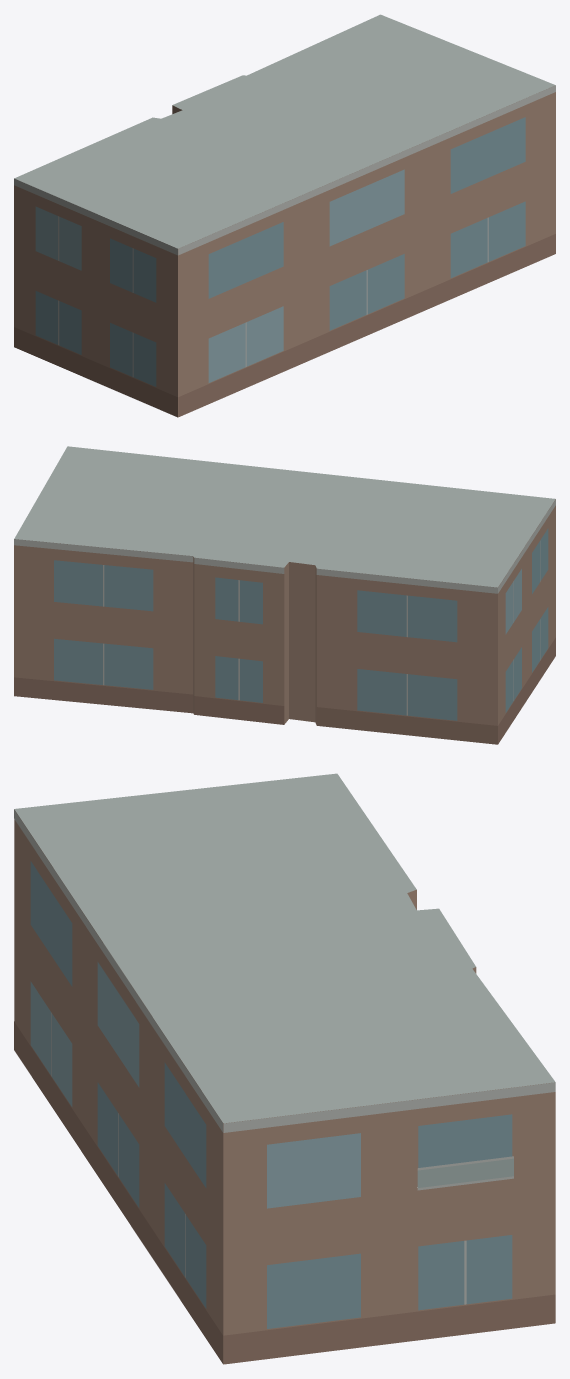
Rendered from survey-upis-32616405.glb.
3 views of the same model, one above another, from view 1: azimuth 30°, elevation 25°; view 2: azimuth 150°, elevation 25°; view 3: azimuth 270°, elevation 25° (orthographic). The views are drawn at different scales.
Visible parts, largest first — view 1: survey-upis-32616405.tmp; view 2: survey-upis-32616405.tmp; view 3: survey-upis-32616405.tmp.
Boxes of the visible parts, bbox=[...] form: survey-upis-32616405.tmp: bbox=[14, 14, 555, 417]; survey-upis-32616405.tmp: bbox=[14, 446, 555, 744]; survey-upis-32616405.tmp: bbox=[14, 773, 555, 1364].
Size of the model in its own units: 19.01 by 6.1 by 12.43.
